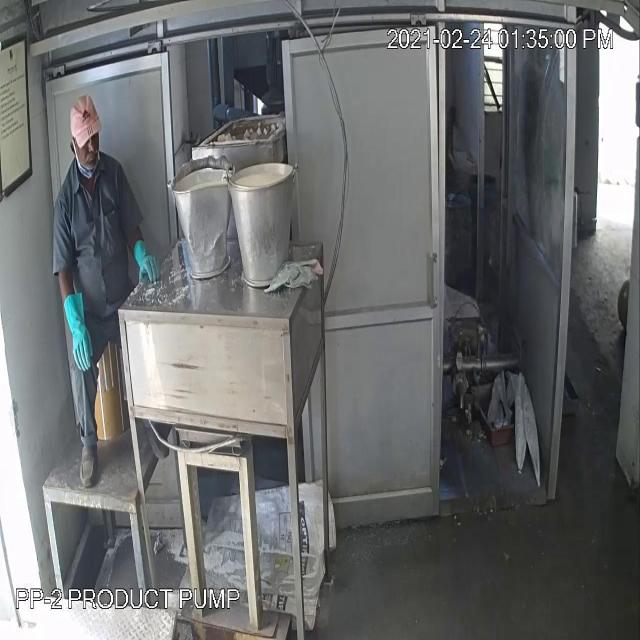no-helmet: (63, 90, 107, 146)
